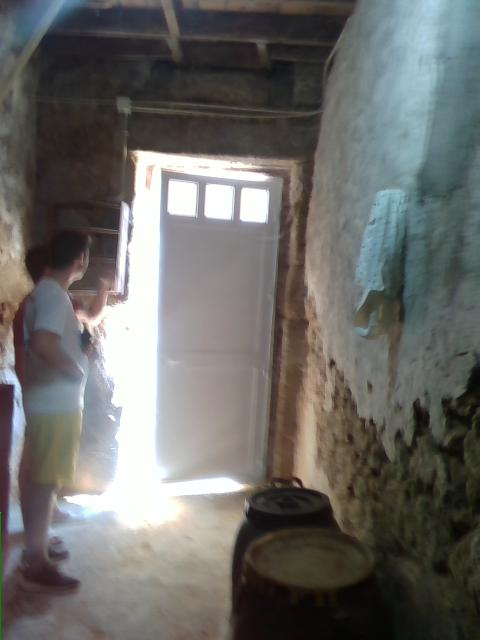closed_door: (154, 166, 290, 486)
